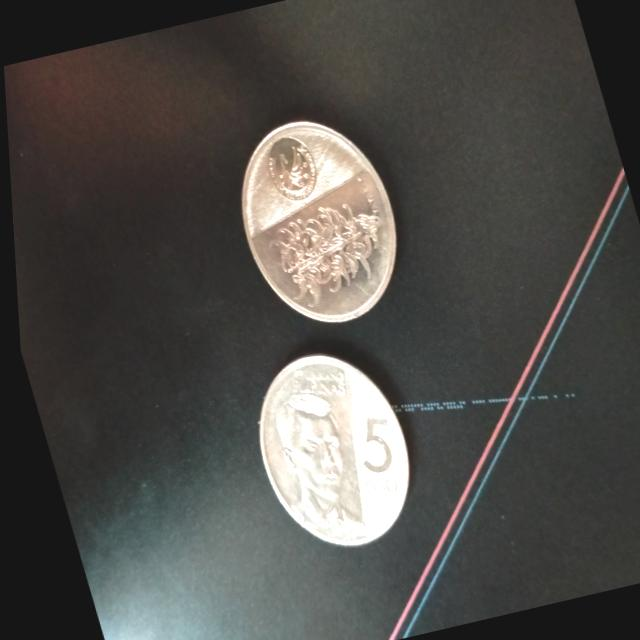5_New_Back: (254, 180, 401, 322)
5_New_Front: (331, 404, 411, 510)
